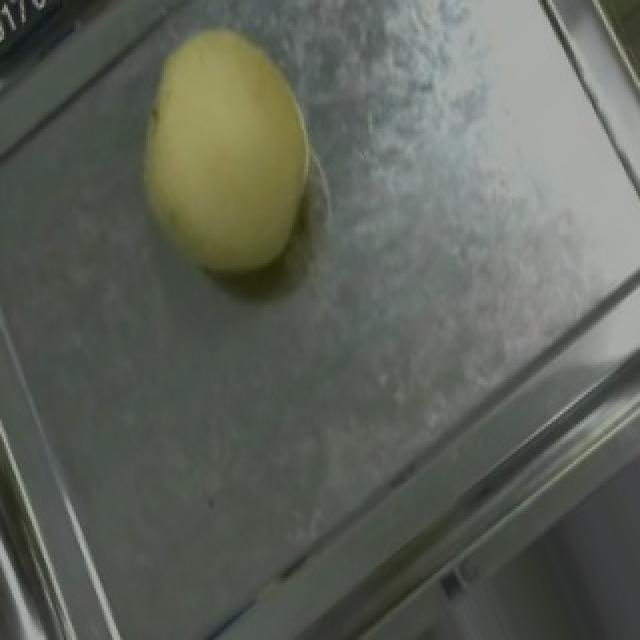Fruit: (94, 0, 360, 318)
